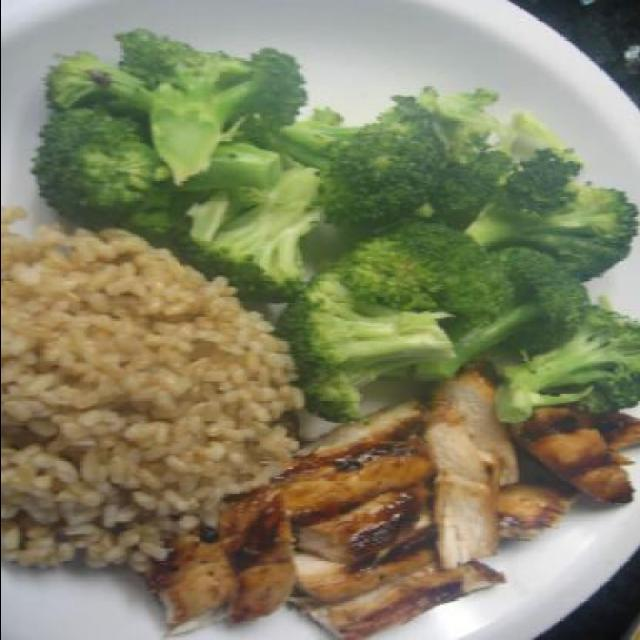Broccoli: (29, 28, 640, 424)
